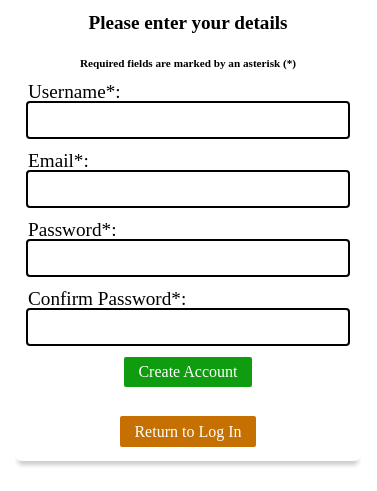
it: UI/DOM Testing... › The 'Username' error message... › Should be present if the value of the 'Username' input is changed          and the new value is invalid
Type "a" into the field named "username-input".
click(188, 120); type("a")  # box [28,103,348,137]
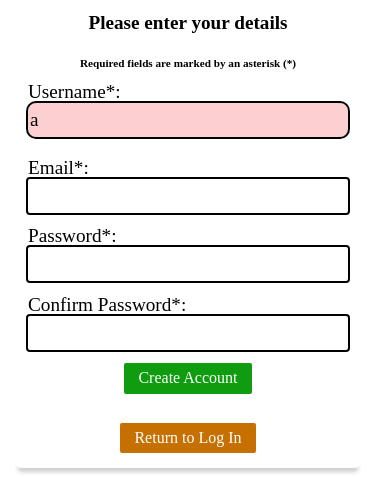
Now the heading named "username-error" is shown, box [28,137,348,144]
